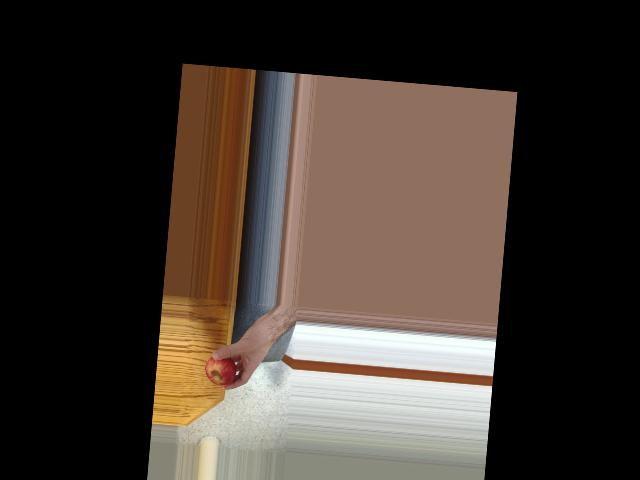apple: (203, 350, 238, 387)
